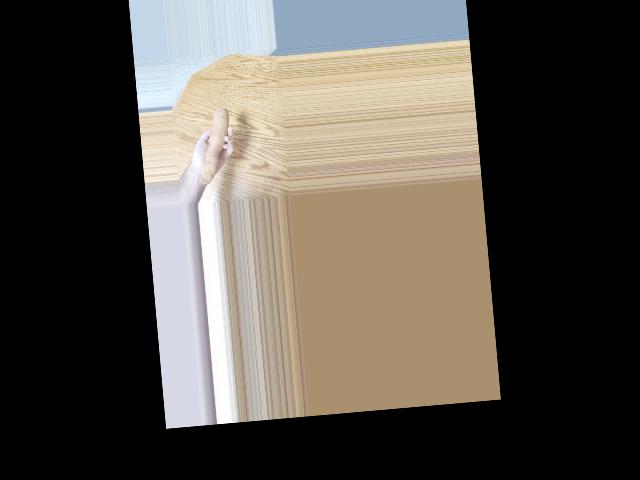sweet_potato: (199, 95, 237, 175)
